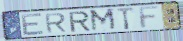E: (20, 12, 46, 37)
F: (138, 5, 162, 31)
M: (89, 7, 119, 33)
R: (68, 10, 92, 33), (44, 12, 68, 34)
T: (115, 6, 136, 31)
